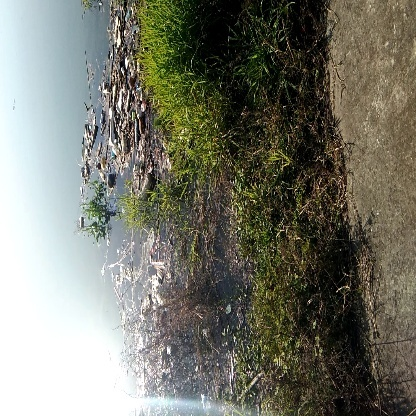grass: (148, 11, 194, 105)
